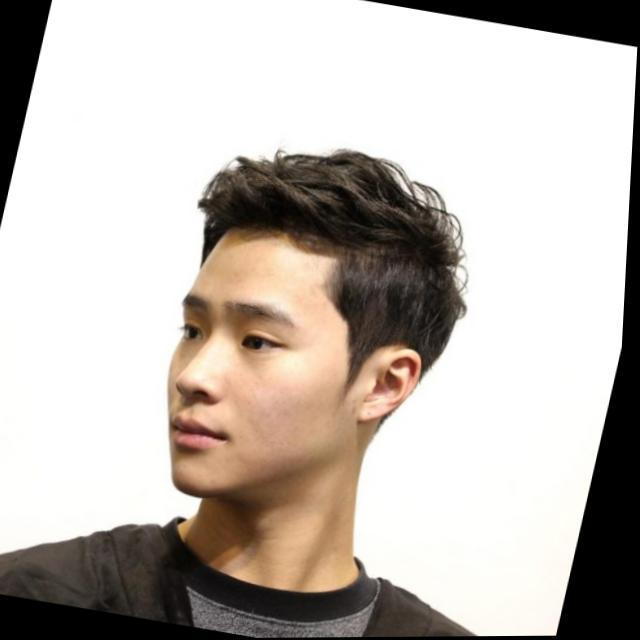Nonhelmet: (156, 141, 473, 505)
